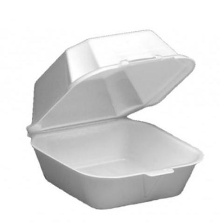foam_box: (21, 25, 207, 212)
